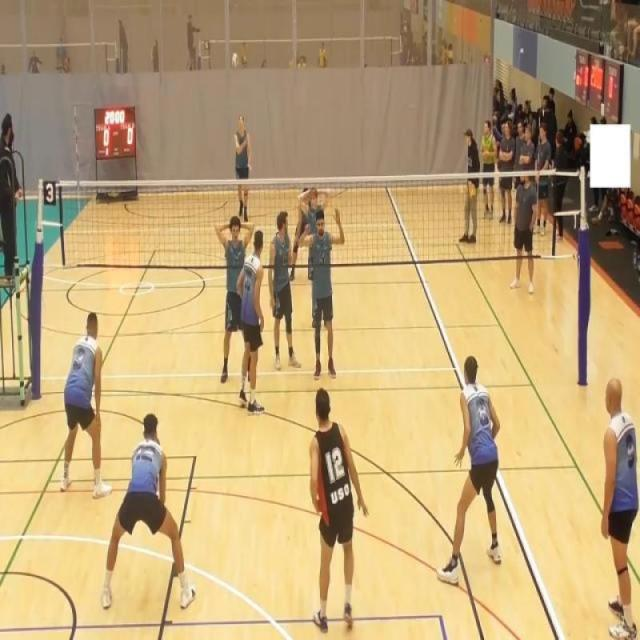volleyball: (232, 52, 240, 68)
